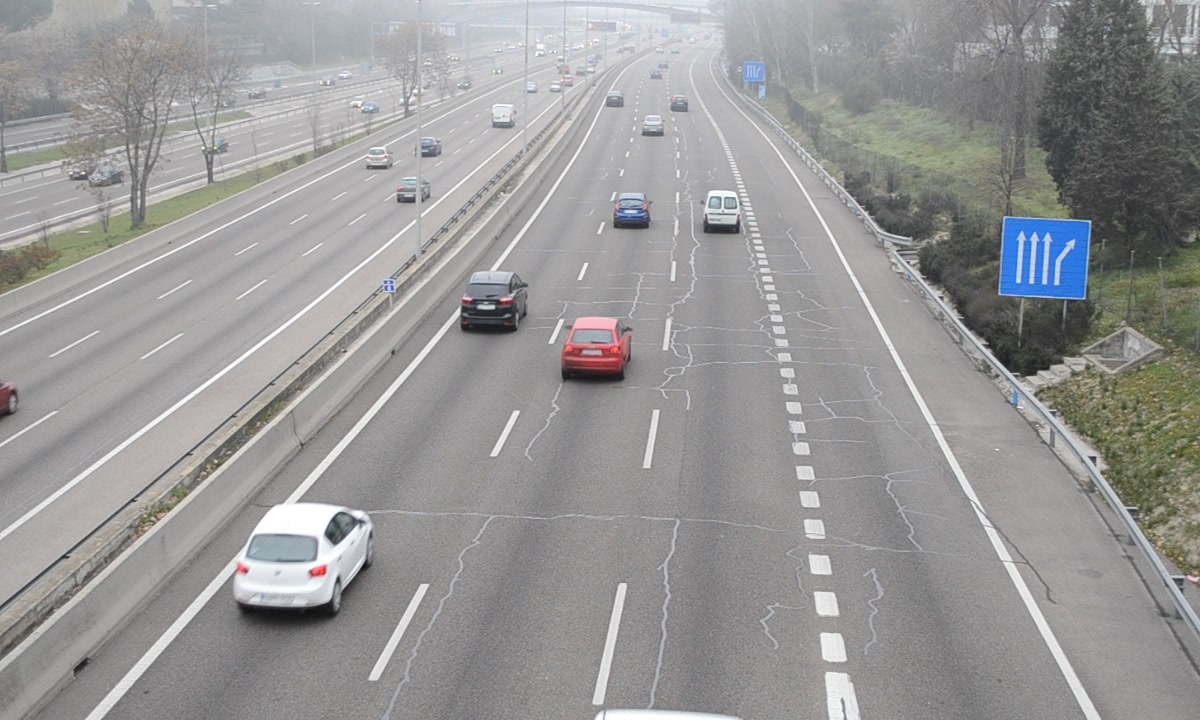car: (234, 504, 372, 611), (563, 317, 629, 374), (463, 272, 526, 329), (613, 193, 650, 229), (642, 114, 666, 137)
van: (703, 190, 741, 230)
